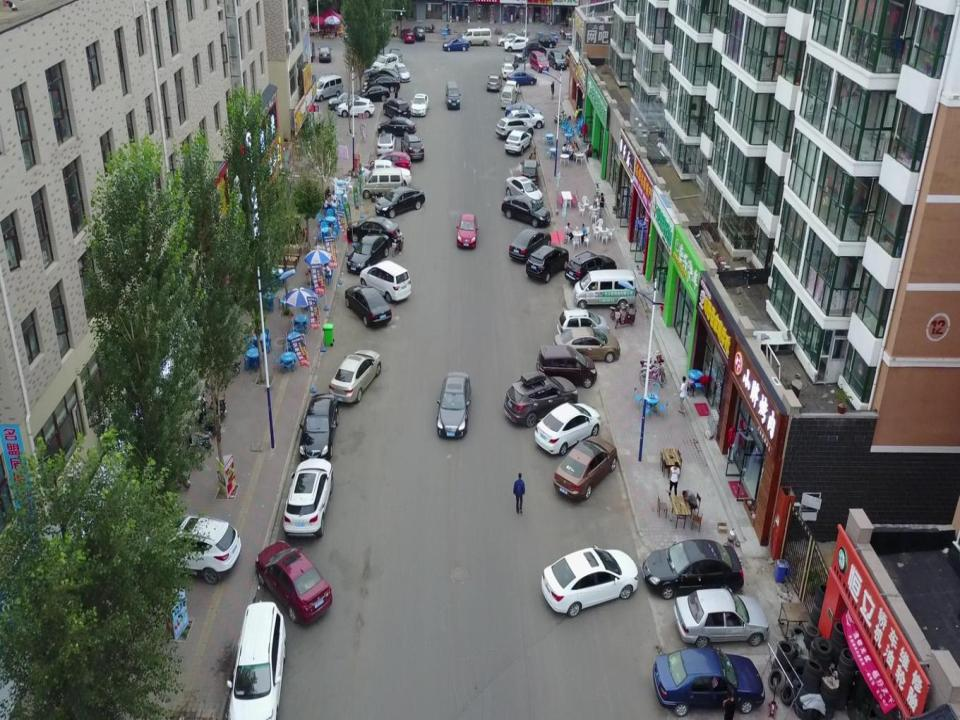car: (122, 513, 242, 584), (227, 601, 287, 720), (541, 545, 638, 617), (254, 540, 332, 625), (503, 371, 578, 428), (283, 458, 335, 540), (553, 436, 617, 502), (534, 402, 600, 456), (328, 348, 382, 403), (299, 393, 338, 461), (536, 345, 597, 388), (554, 326, 621, 362), (436, 372, 472, 438), (345, 284, 391, 328), (345, 231, 390, 275), (564, 251, 617, 286), (501, 193, 551, 229), (525, 245, 569, 283), (374, 186, 426, 218), (556, 309, 609, 339), (508, 228, 552, 264), (346, 216, 400, 244), (363, 161, 412, 188), (505, 176, 544, 207), (370, 152, 411, 174), (454, 212, 479, 248), (377, 115, 415, 136), (496, 116, 534, 136), (507, 109, 545, 129), (337, 98, 375, 118), (504, 102, 541, 121), (328, 92, 363, 112), (505, 130, 532, 155), (383, 97, 410, 122), (520, 158, 540, 191), (354, 85, 390, 103), (403, 132, 424, 162), (363, 74, 399, 90), (376, 132, 396, 157), (529, 50, 549, 73), (410, 92, 429, 116), (547, 49, 566, 71), (508, 70, 537, 84), (442, 37, 470, 51), (392, 62, 411, 82), (504, 38, 533, 50), (497, 32, 522, 45), (532, 35, 556, 48), (522, 42, 547, 54), (504, 80, 519, 98), (500, 62, 515, 80), (487, 74, 503, 90), (503, 54, 518, 68), (318, 45, 331, 61), (401, 28, 414, 44), (413, 26, 426, 40)
van: (572, 268, 636, 310), (360, 260, 412, 303), (359, 167, 404, 199), (310, 74, 342, 101), (370, 52, 398, 74), (462, 28, 492, 46), (445, 81, 461, 110), (500, 86, 516, 112)
